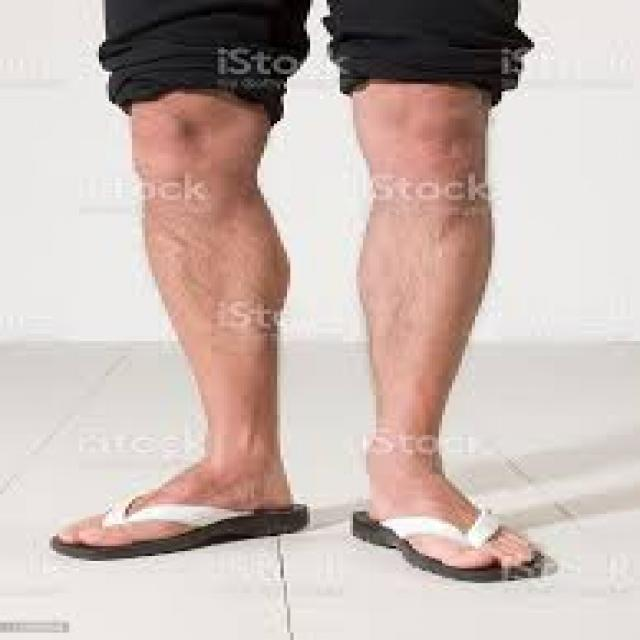No_Shoe: (55, 449, 308, 565), (348, 472, 551, 582)
